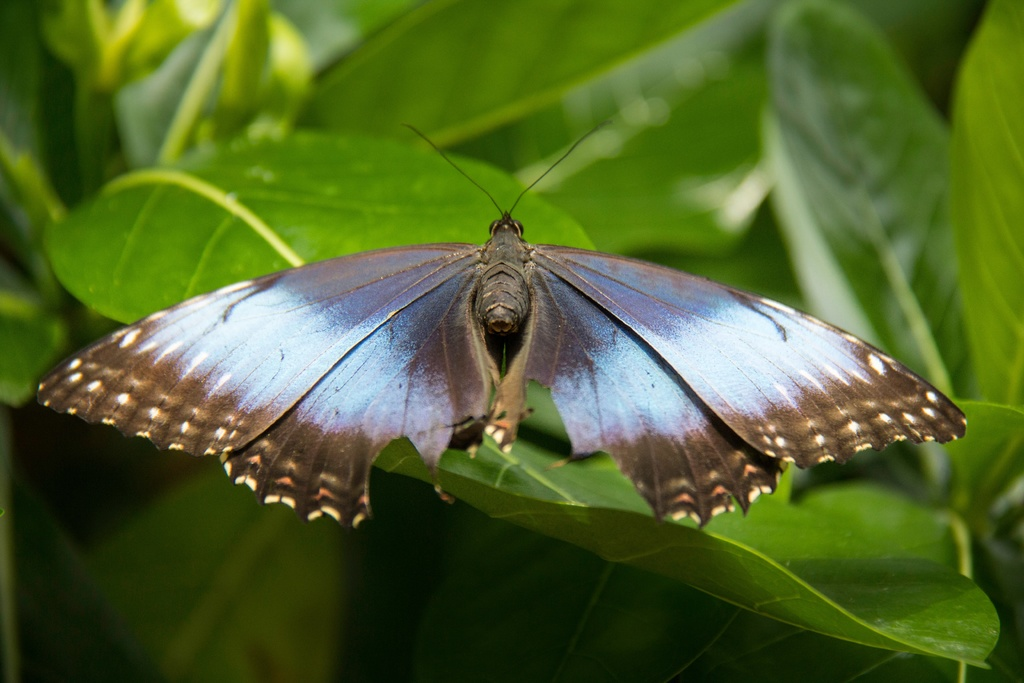Butterfly: (35, 210, 986, 523)
